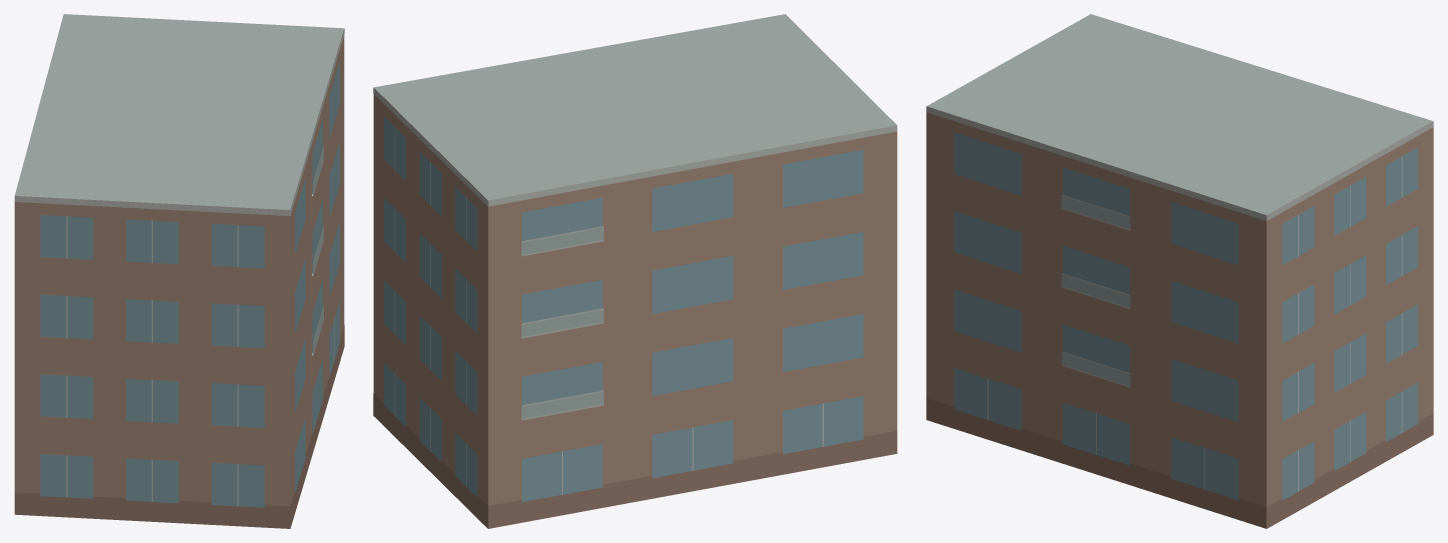
The model's file is survey-upis-32912428.glb.
3 views of the same model, side by side, from view 1: azimuth 30°, elevation 25°; view 2: azimuth 150°, elevation 25°; view 3: azimuth 270°, elevation 25° (orthographic). The views are drawn at different scales.
Parts seen in each view (by area): view 1: survey-upis-32912428.tmp; view 2: survey-upis-32912428.tmp; view 3: survey-upis-32912428.tmp.
Boxes of the visible parts, <box> form: survey-upis-32912428.tmp: <box>14,14,344,528</box>; survey-upis-32912428.tmp: <box>373,14,897,528</box>; survey-upis-32912428.tmp: <box>926,14,1433,528</box>.
Bounding box in the file's own units: 17.76 × 12.9 × 18.91.
